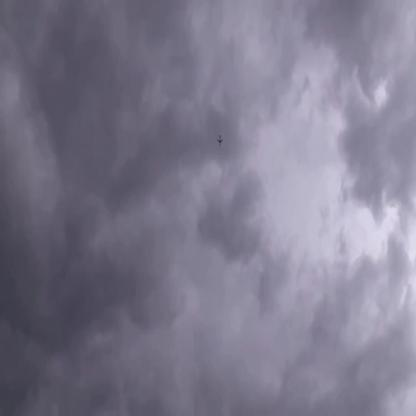CIV_Plane: (216, 136, 223, 148)
